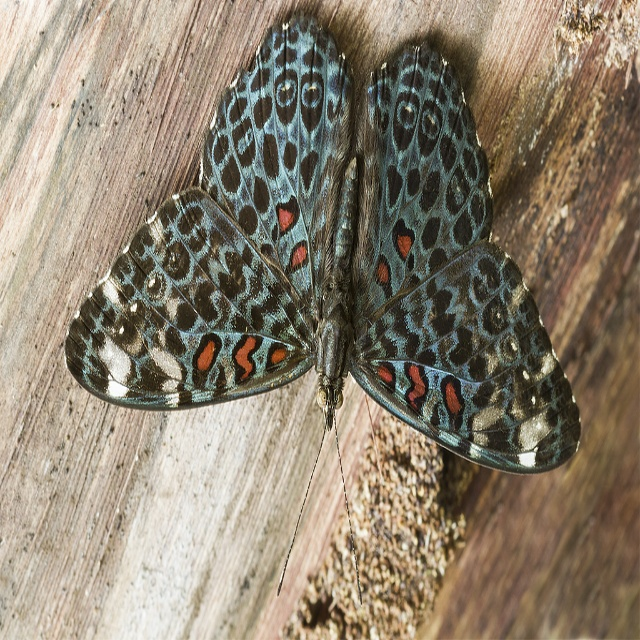Butterfly: (87, 11, 596, 635)
